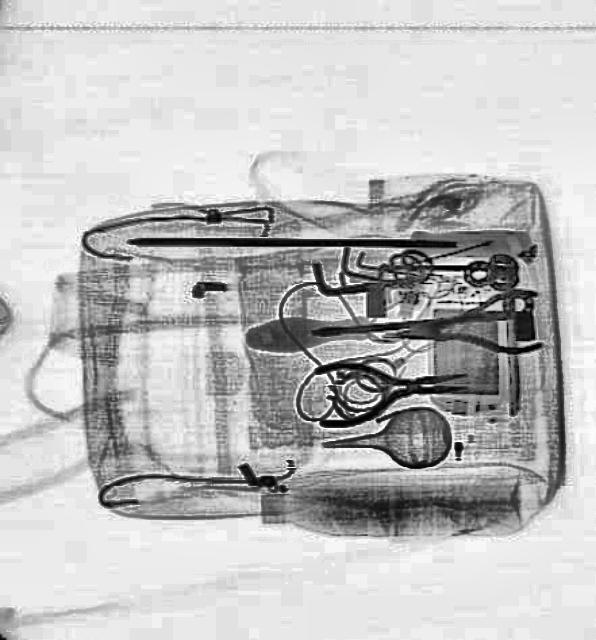Pliers: (312, 347, 468, 428), (382, 288, 542, 362)
